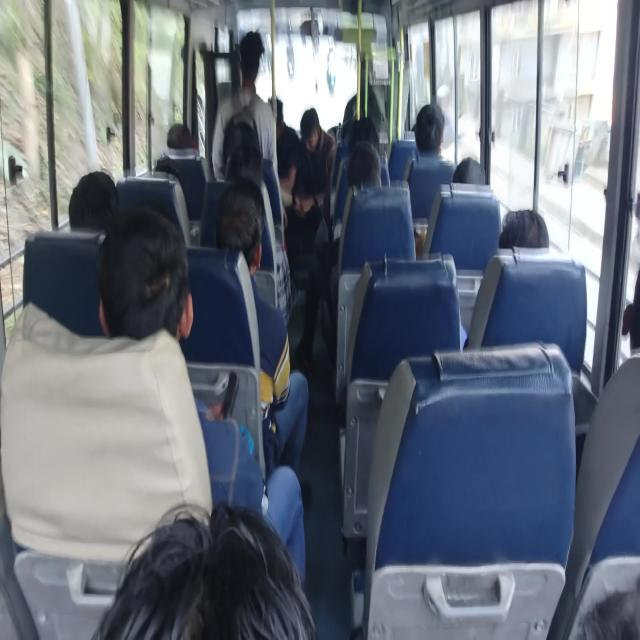person: (118, 394, 282, 640), (96, 202, 157, 314), (590, 240, 640, 364), (57, 160, 123, 236), (210, 197, 261, 274), (451, 158, 497, 208), (496, 207, 547, 248), (228, 161, 274, 204), (300, 100, 326, 167), (420, 99, 452, 149), (347, 152, 380, 200), (237, 119, 272, 163), (239, 36, 265, 94), (352, 119, 381, 159), (166, 118, 198, 154), (156, 156, 184, 194), (268, 93, 284, 148), (345, 122, 376, 143), (410, 106, 424, 129)
